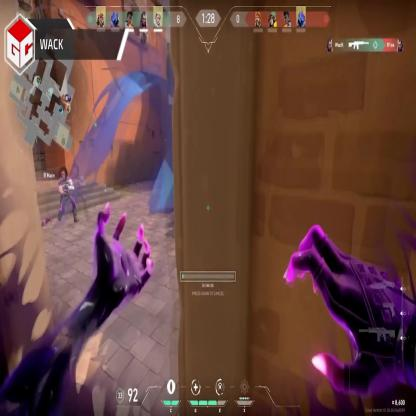enemy: (58, 166, 79, 224)
enemy_head: (60, 168, 67, 182)
